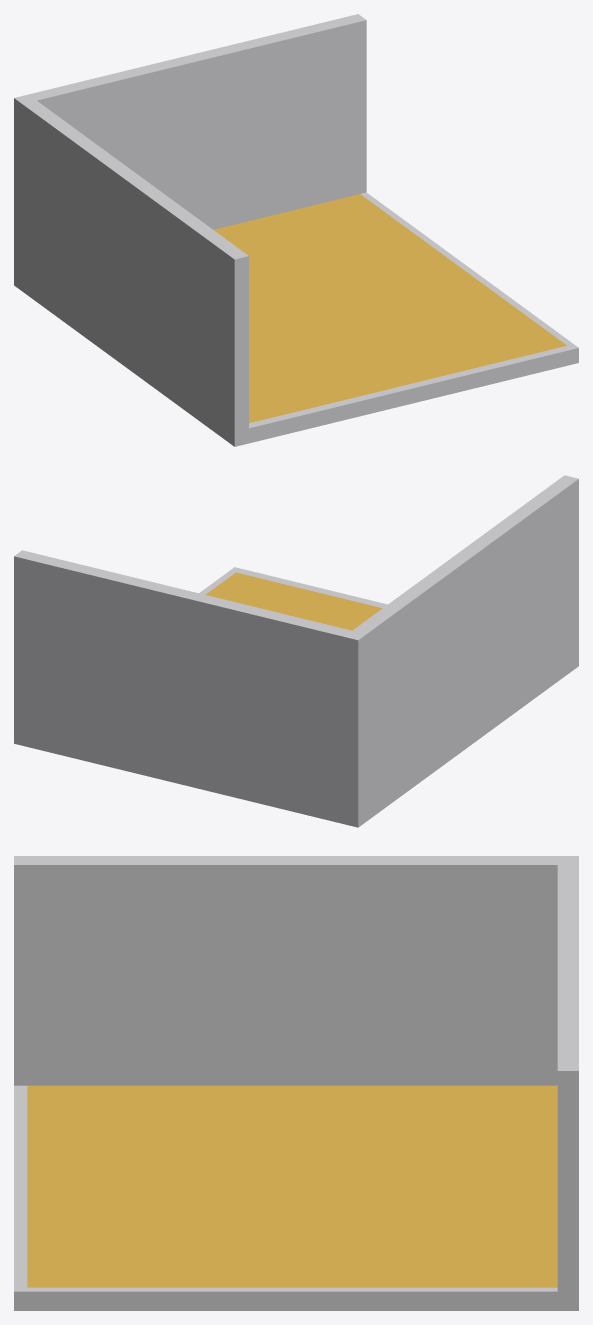
The model's file is room.glb.
The picture shows the model from 3 angles, top to bottom: view 1: azimuth 30°, elevation 25°; view 2: azimuth 150°, elevation 25°; view 3: azimuth 270°, elevation 25°; orthographic projection. The views are drawn at different scales.
Visible parts, largest first — view 1: Cube; view 2: Cube; view 3: Cube.
Boxes of the visible parts, <box> form: Cube: <box>14,14,578,446</box>; Cube: <box>14,475,578,827</box>; Cube: <box>14,856,578,1310</box>.
Size of the model in its own units: 5.64 by 2.93 by 6.26.
